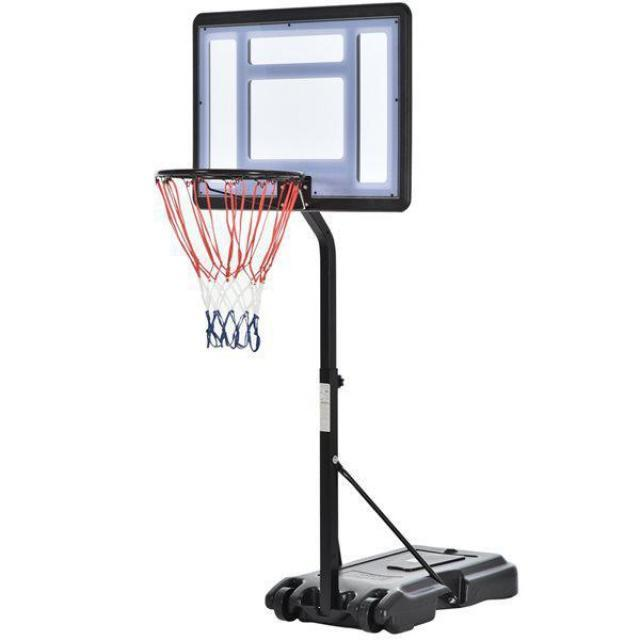hoop: (154, 168, 304, 352)
